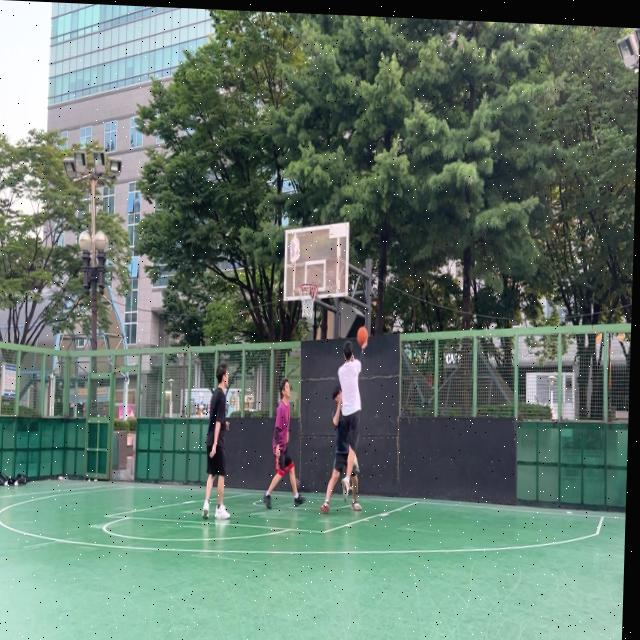basketball: (356, 326, 369, 347)
hoop: (297, 283, 318, 320)
